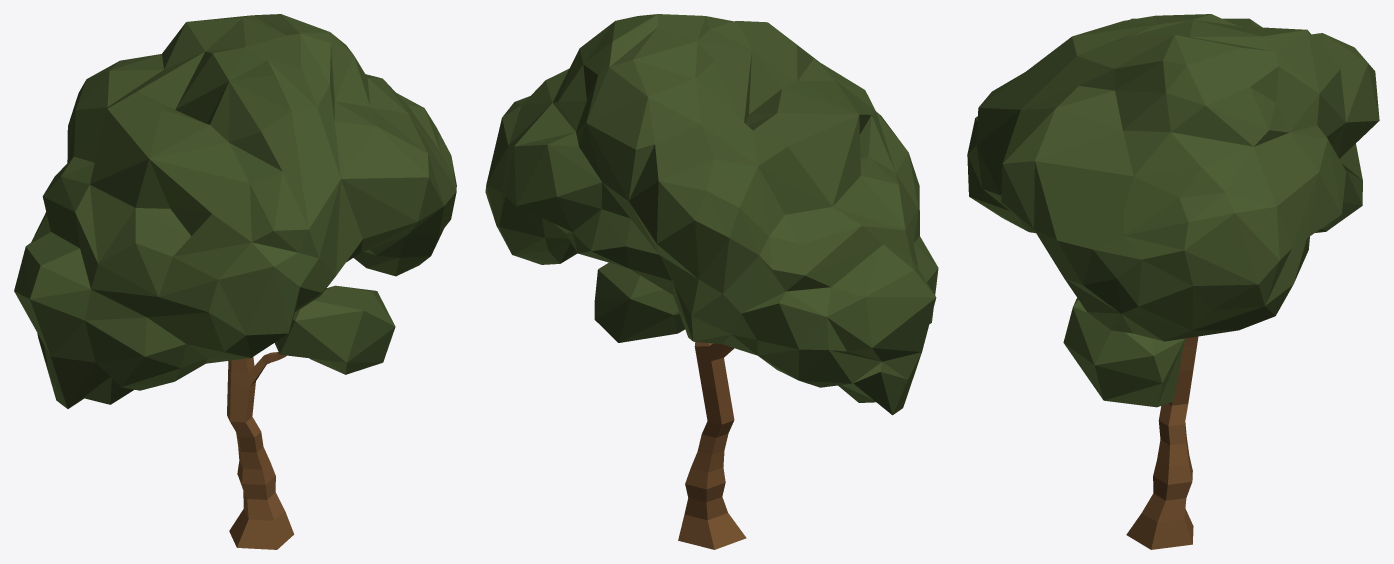
The model's file is delh_foli_05.fbx.
3 views of the same model, side by side, from view 1: azimuth 30°, elevation 25°; view 2: azimuth 150°, elevation 25°; view 3: azimuth 270°, elevation 25° (orthographic). The views are drawn at different scales.
Visible parts, largest first — view 1: delh_foli_05; view 2: delh_foli_05; view 3: delh_foli_05.
Boxes of the visible parts, x1,y1,x2,y2 form: delh_foli_05: [14, 14, 456, 549]; delh_foli_05: [485, 14, 938, 549]; delh_foli_05: [967, 14, 1379, 549].
Bounding box in the file's own units: 650 × 742 × 529.
